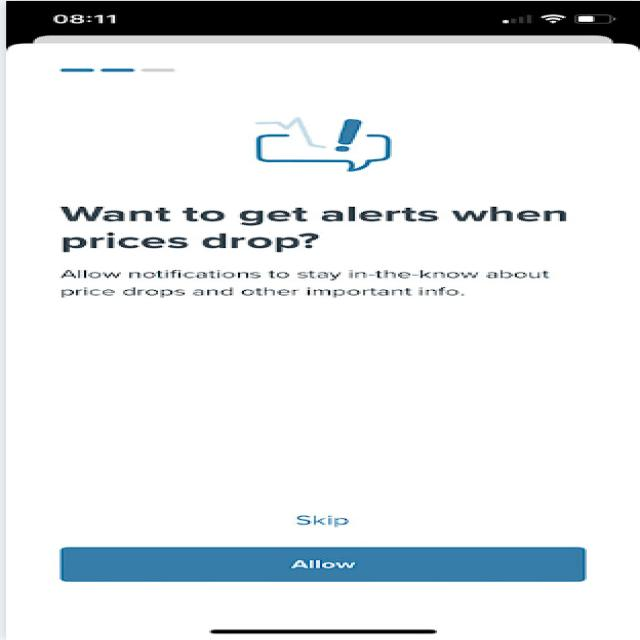button: (42, 537, 608, 593)
spacer: (38, 316, 614, 510)
text: (45, 194, 605, 307)
view: (203, 101, 448, 187)
